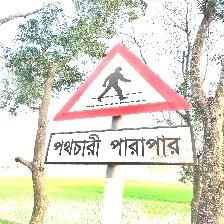Pedestrian-crossing: (45, 41, 195, 165)
